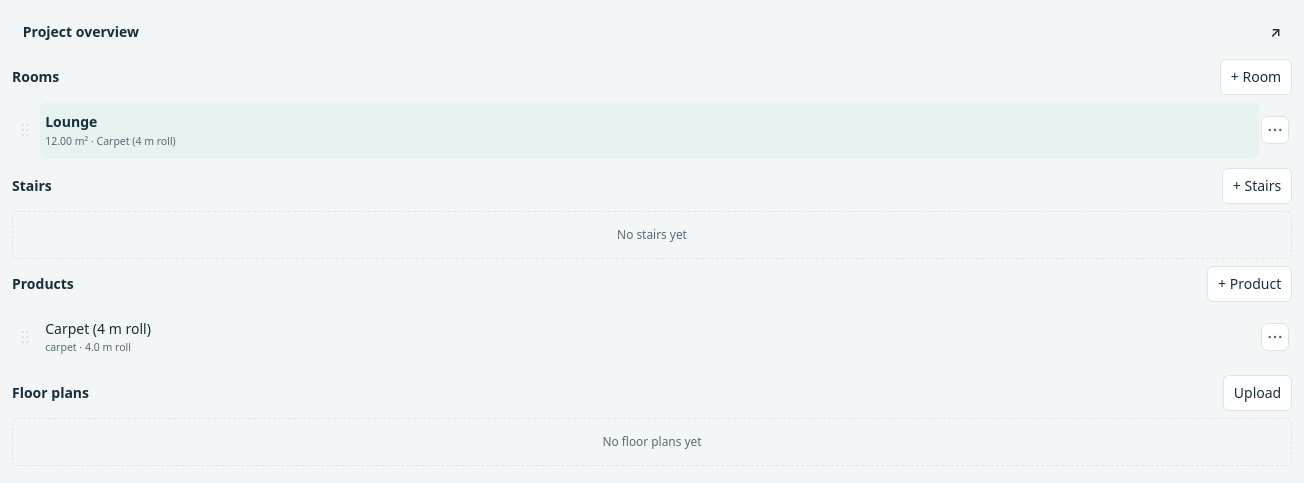
Test case: organising from the sidebar › allows cancellation before deleting a room and clears the deleted room selection
Click the button named "Room 1 actions": (1275, 130) x1=1261 y1=116 x2=1289 y2=144
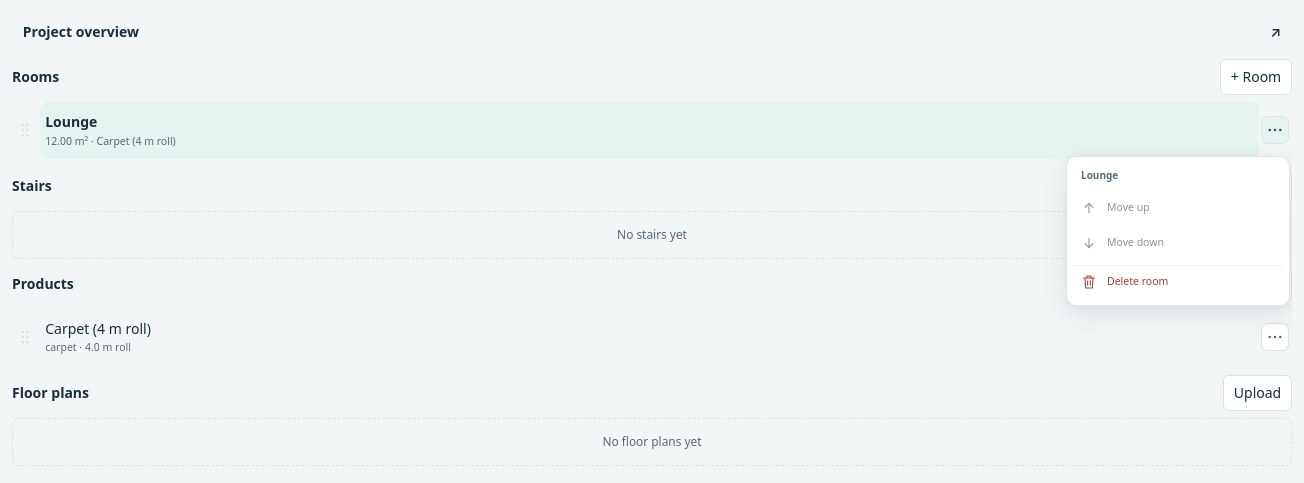
Click the button "Delete room": (1178, 282) x1=1073 y1=265 x2=1283 y2=299
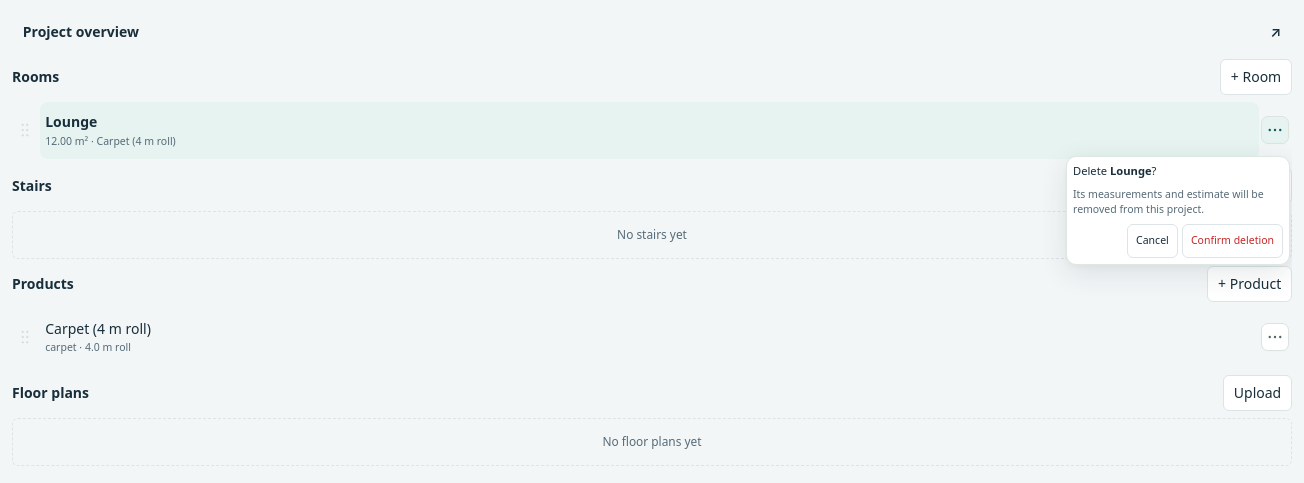
Click the button "Cancel": (1152, 241) x1=1127 y1=224 x2=1178 y2=258
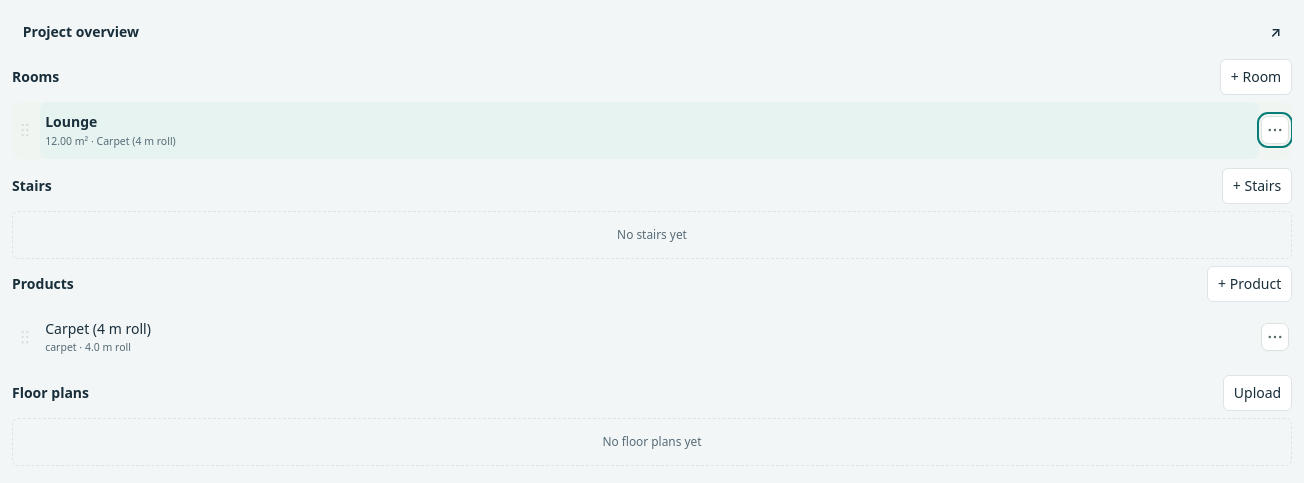
Click the button named "Room 1 actions": (1275, 130) x1=1261 y1=116 x2=1289 y2=144
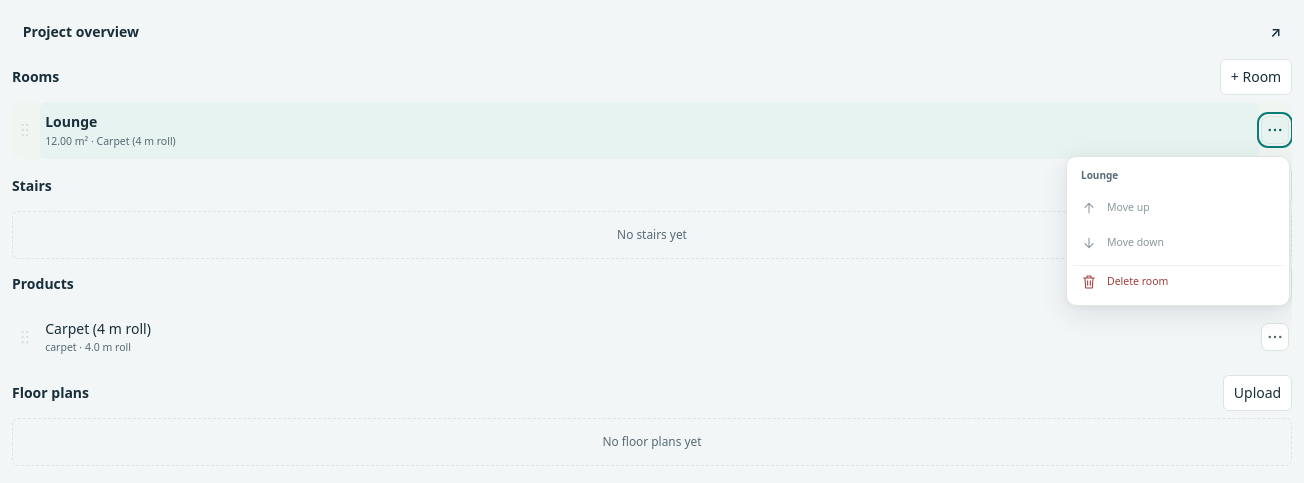
Click the button "Delete room": (1178, 282) x1=1073 y1=265 x2=1283 y2=299
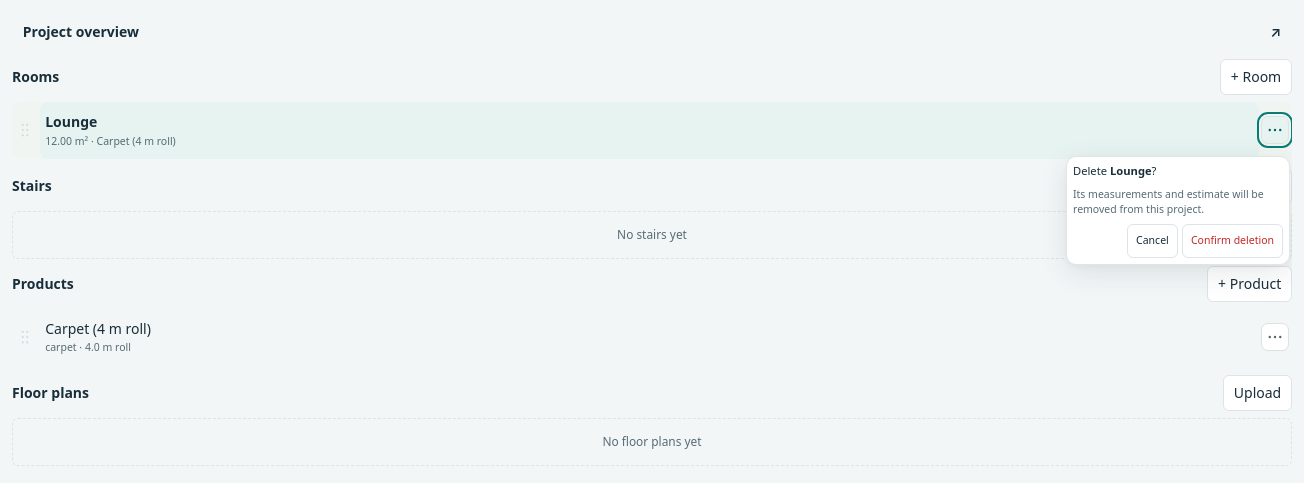
Click the button "Confirm deletion": (1232, 241) x1=1182 y1=224 x2=1283 y2=258
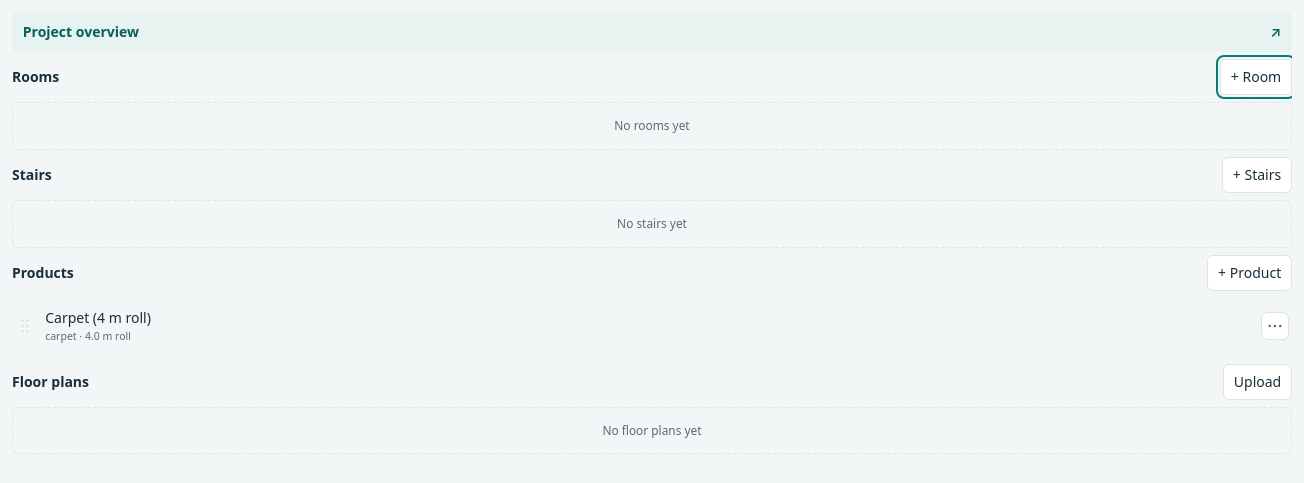
Expected: the text "No rooms yet" is shown, x1=12 y1=102 x2=1292 y2=150
